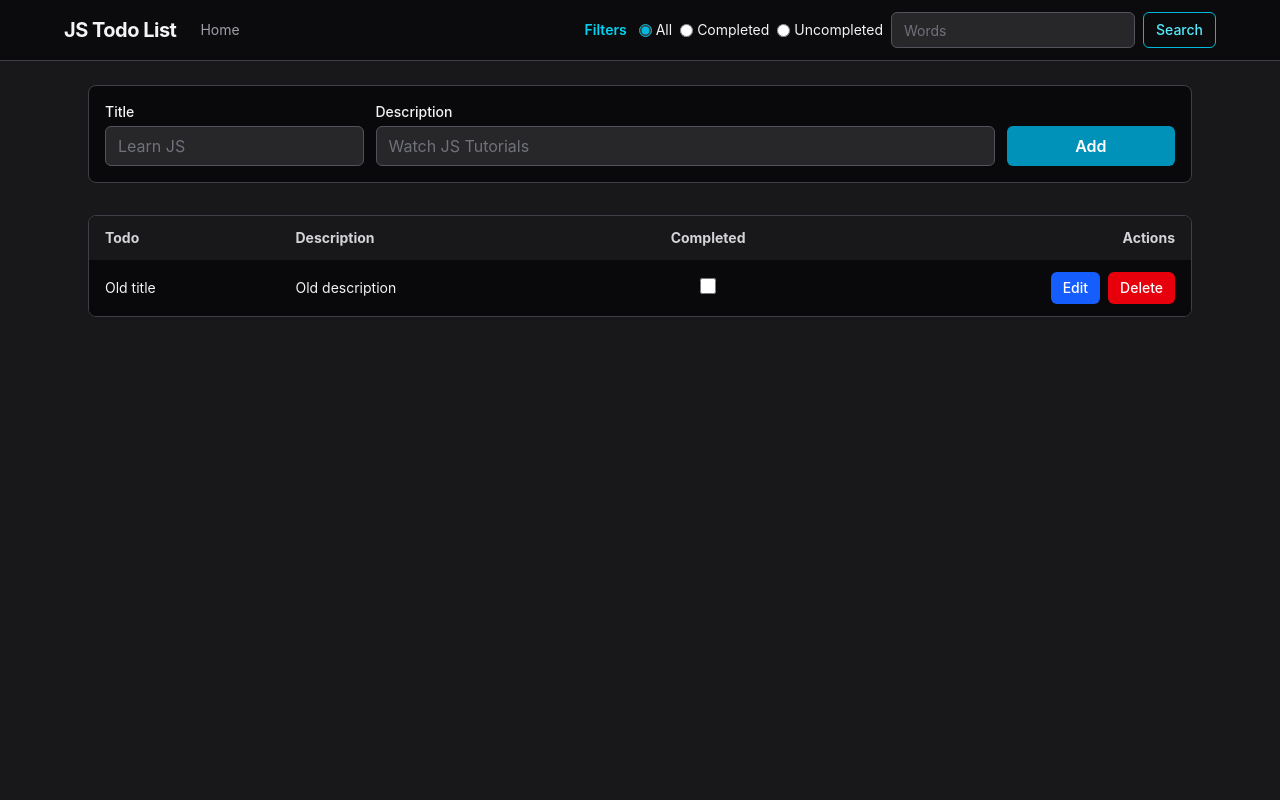
Scenario: US6 - Edit Existing Tasks › updates screen list and localStorage after saving edited task
The width and height of the screenshot is (1280, 800).
Expected: the text "Old title" is shown, top-left (105, 279), bottom-right (156, 296)
Click the button "Edit" at point(1075, 288), box top-left (1051, 272), bottom-right (1100, 304)
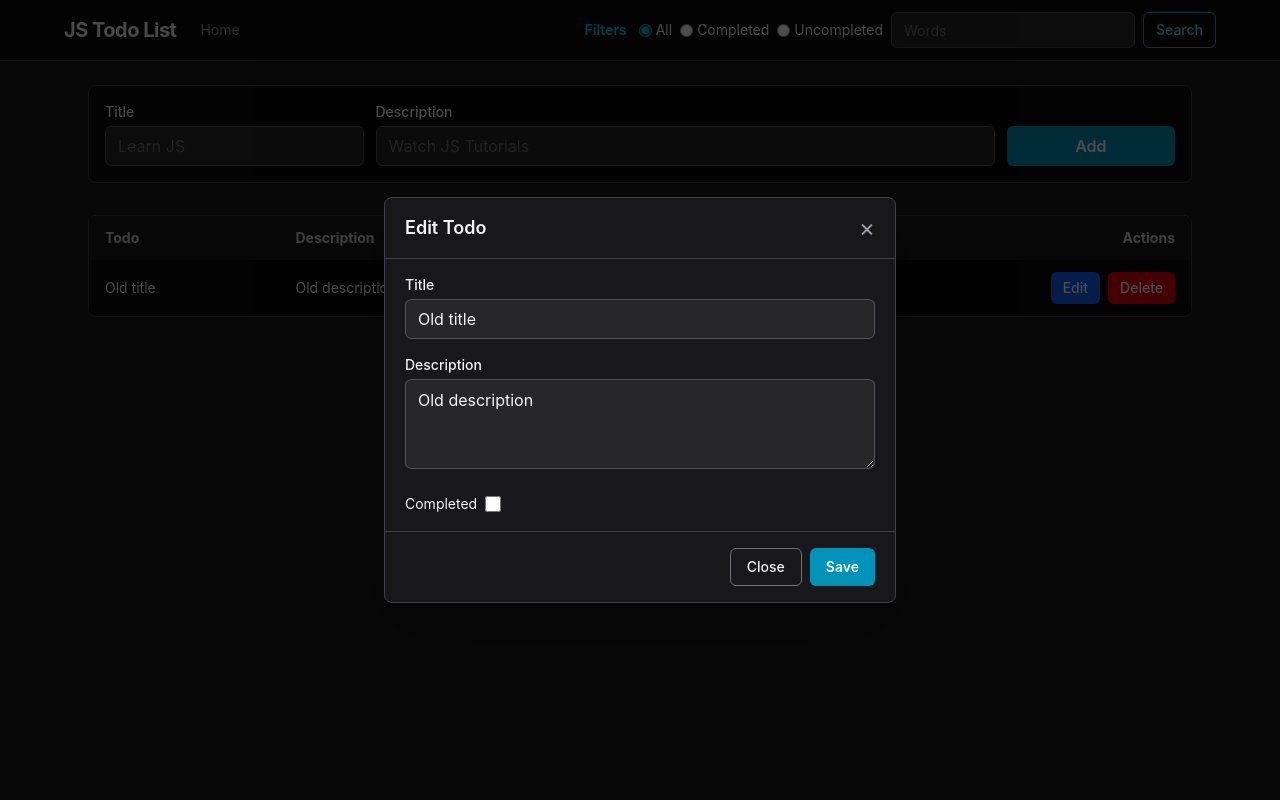
Note: Update the values in the modal inputs
Replace the text in the field showing "Old title" with "Updated title" at point(640, 319), box top-left (405, 299), bottom-right (875, 339)
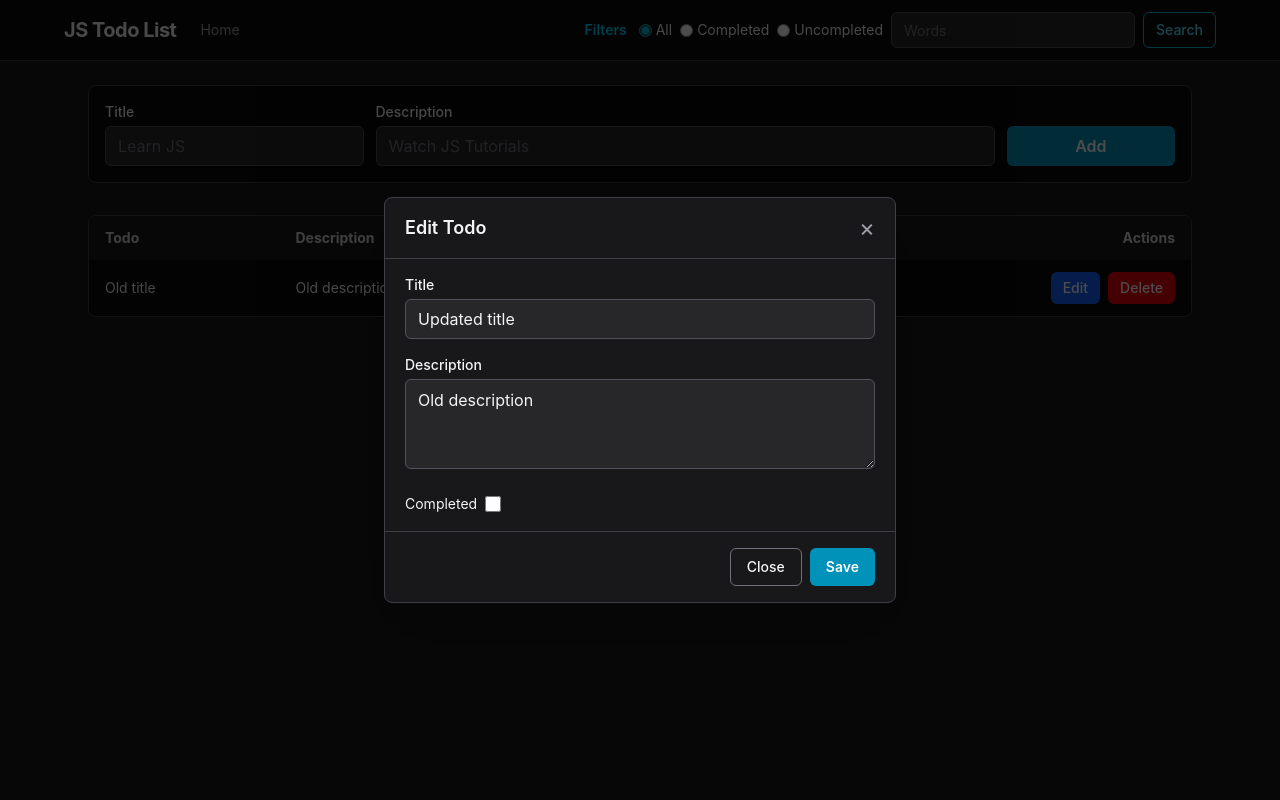
Replace the text in the text box showing "Old description" with "Updated description" at point(640, 424), box top-left (405, 379), bottom-right (875, 469)
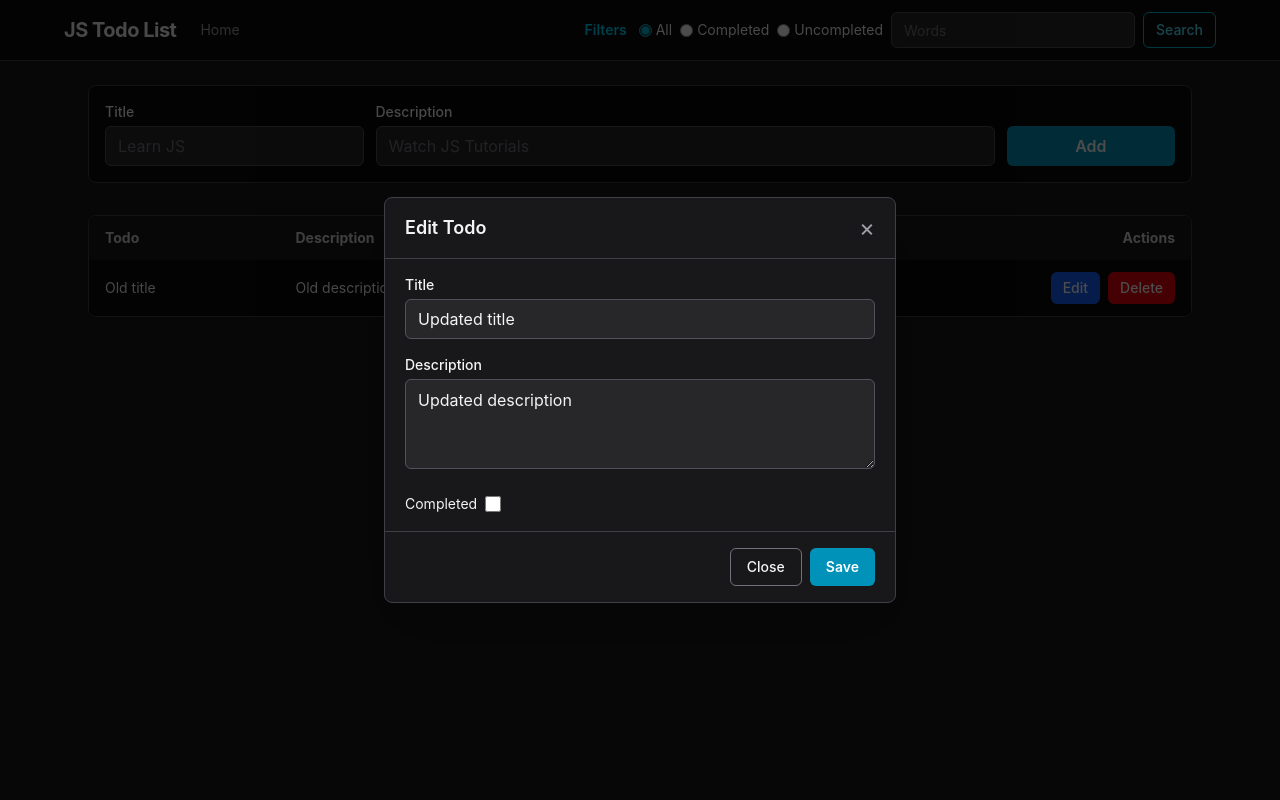
Note: Click Save button in the modal
Click the button "Save" at point(842, 567), box top-left (810, 548), bottom-right (875, 586)
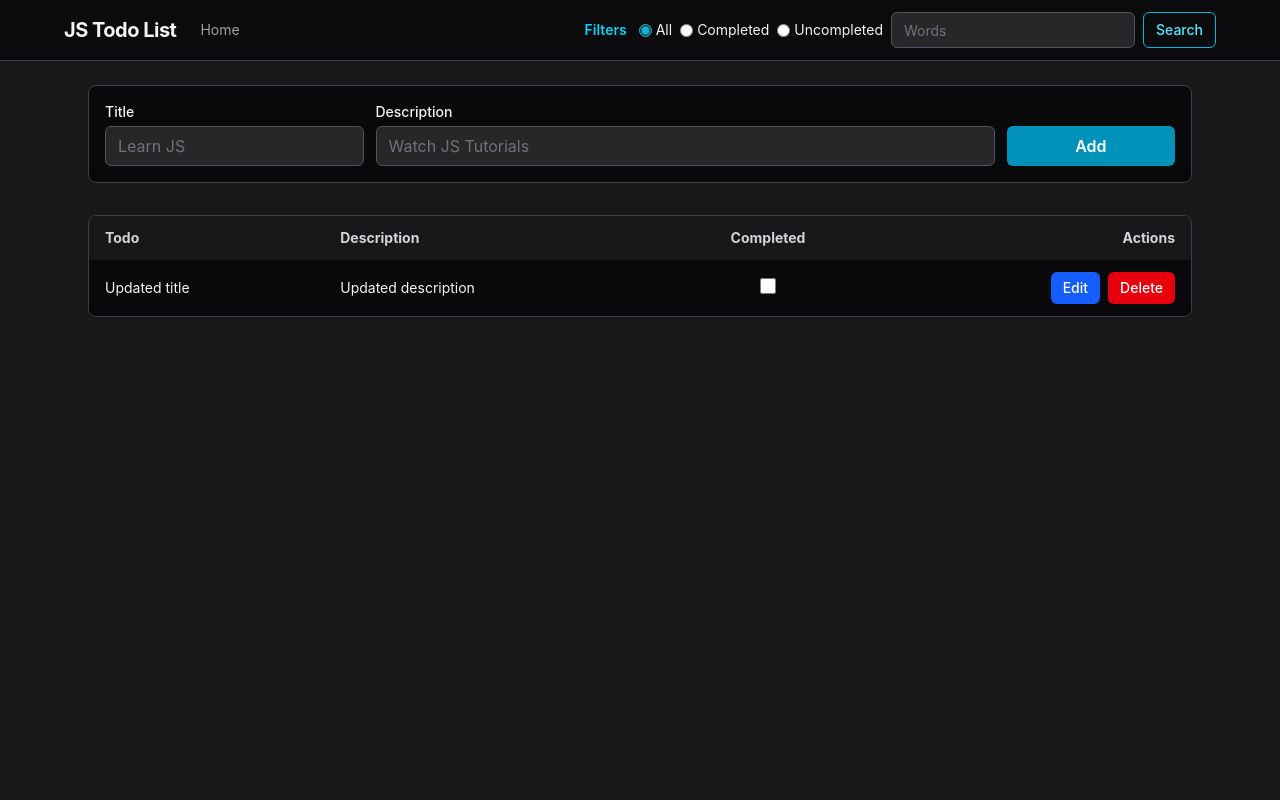
Now the text "Updated title" is shown, box top-left (89, 260), bottom-right (324, 316)
Now the text "Updated description" is shown, box top-left (324, 260), bottom-right (660, 316)
Now the text "Old title" is gone
